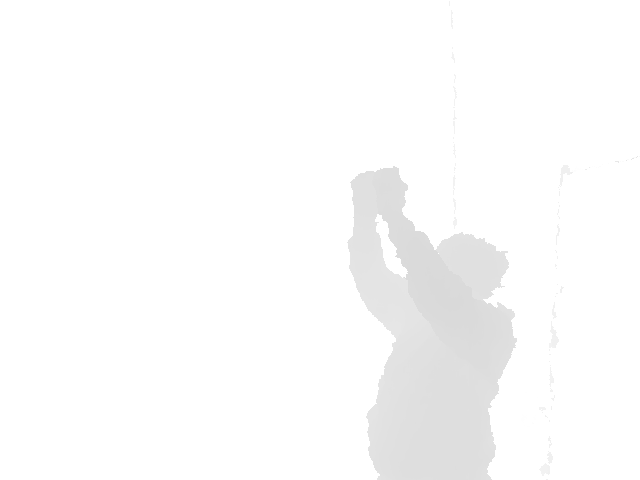hand: (369, 166, 409, 212), (352, 170, 380, 216)
head: (411, 231, 512, 303)
person: (347, 166, 517, 480)
